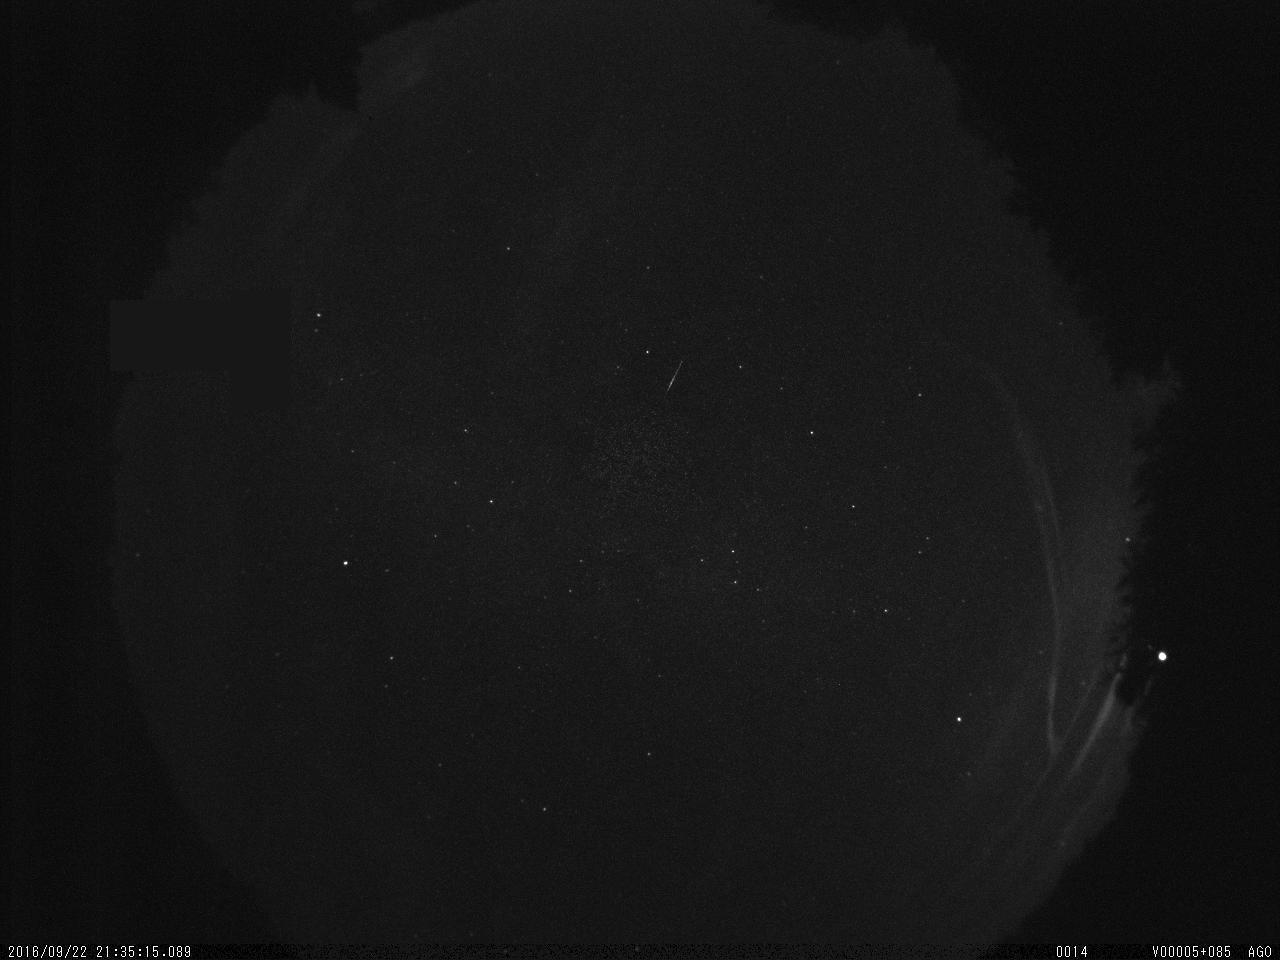meteor: (649, 345, 705, 404)
